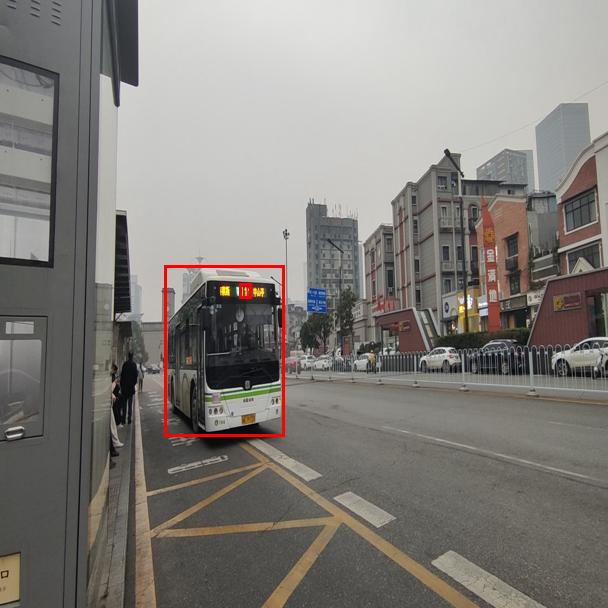bus: (164, 265, 284, 436)
screen: (239, 283, 251, 298)
